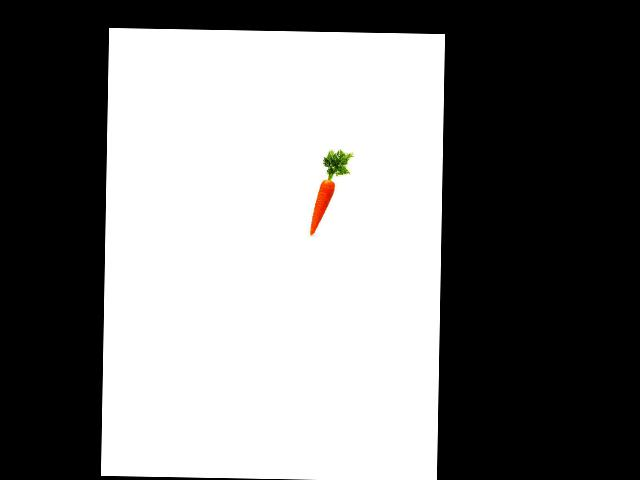carrot: (308, 177, 336, 238)
